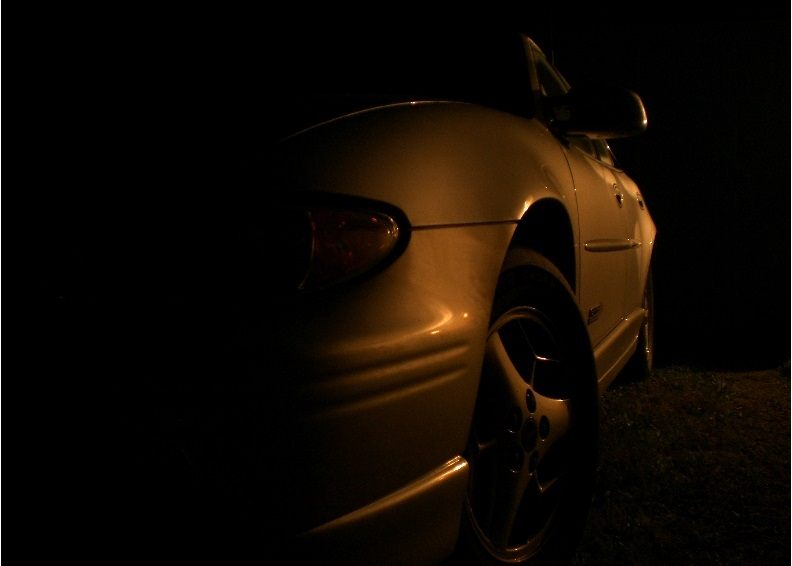car: (7, 4, 671, 563)
